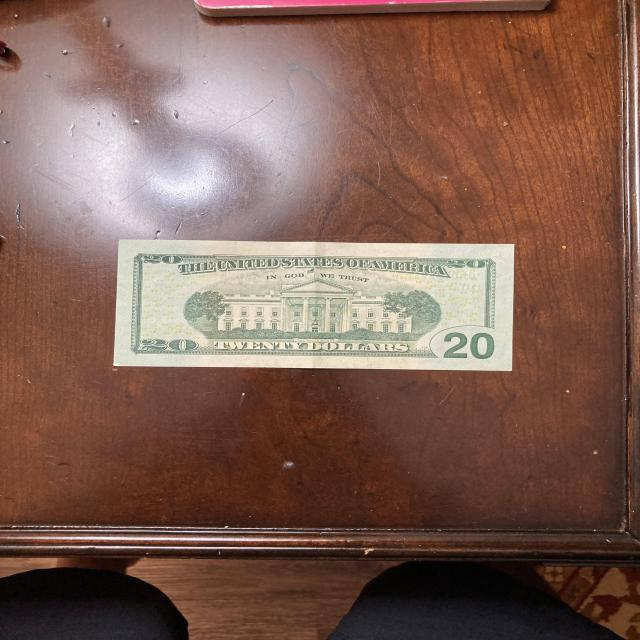twenty: (114, 239, 516, 372)
